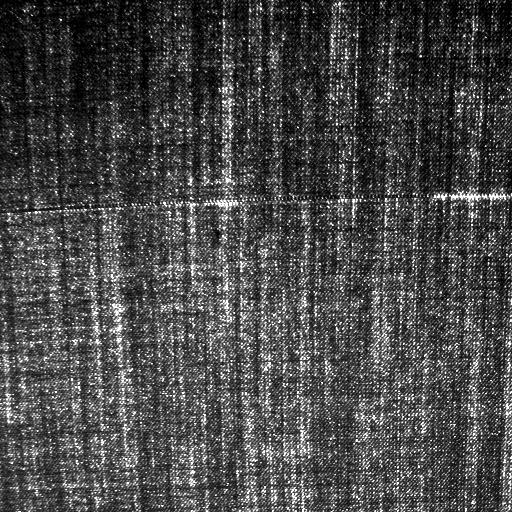fabric_hole: (27, 184, 495, 212)
